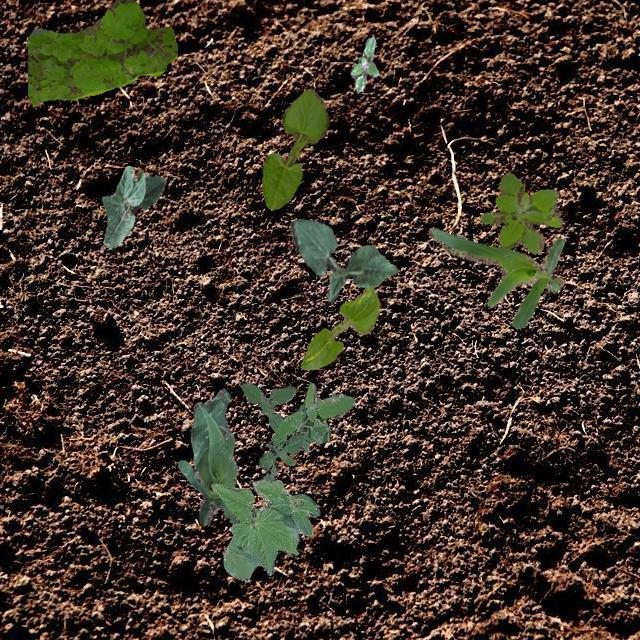crop: (428, 225, 564, 328), (210, 478, 320, 580), (290, 218, 398, 302), (260, 88, 328, 210), (178, 388, 238, 524), (300, 286, 378, 370), (100, 165, 164, 246)
weed: (27, 0, 176, 105), (240, 382, 312, 480), (481, 172, 562, 252), (272, 382, 354, 442), (350, 36, 378, 91)
